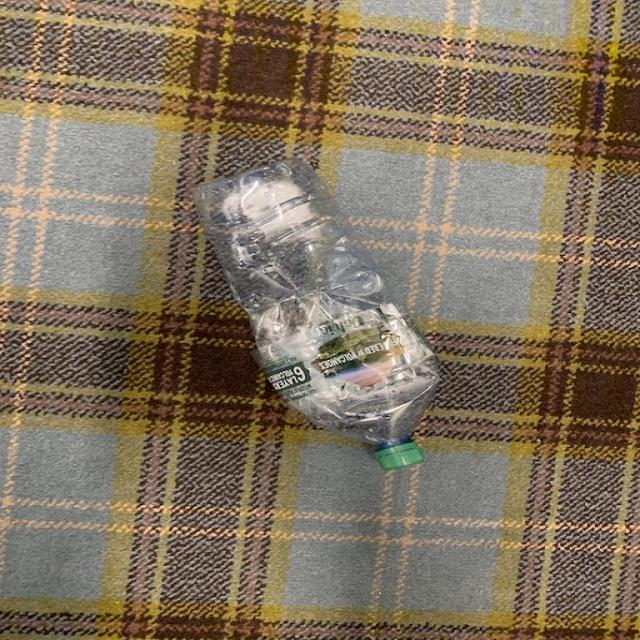Waste: (198, 159, 438, 470)
